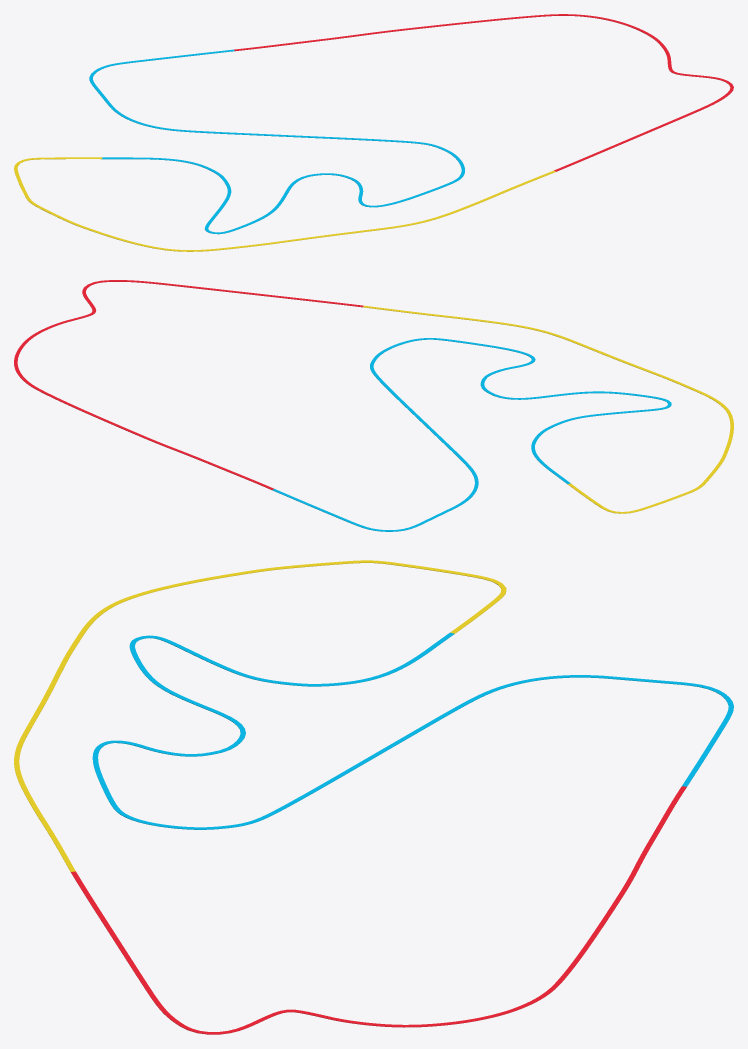
Rendered from InterlagosSectors.glb.
3 renders of one model, top to bottom at view 1: azimuth 30°, elevation 25°; view 2: azimuth 150°, elevation 25°; view 3: azimuth 270°, elevation 25°, orthographic. The views are drawn at different scales.
Parts seen in each view (by area): view 1: SectorStrip_2, SectorStrip_1, SectorStrip_3; view 2: SectorStrip_2, SectorStrip_1, SectorStrip_3; view 3: SectorStrip_2, SectorStrip_1, SectorStrip_3.
Part boxes in pixels (<box>): SectorStrip_2: <box>89,49,464,234</box>; SectorStrip_1: <box>234,14,733,171</box>; SectorStrip_3: <box>14,157,555,251</box>; SectorStrip_2: <box>272,338,671,531</box>; SectorStrip_1: <box>14,280,363,489</box>; SectorStrip_3: <box>363,305,733,513</box>; SectorStrip_2: <box>92,632,733,829</box>; SectorStrip_1: <box>71,786,686,1034</box>; SectorStrip_3: <box>14,560,506,871</box>.
Bounding box in the file's own units: 16.26 × 0.006 × 10.44.
